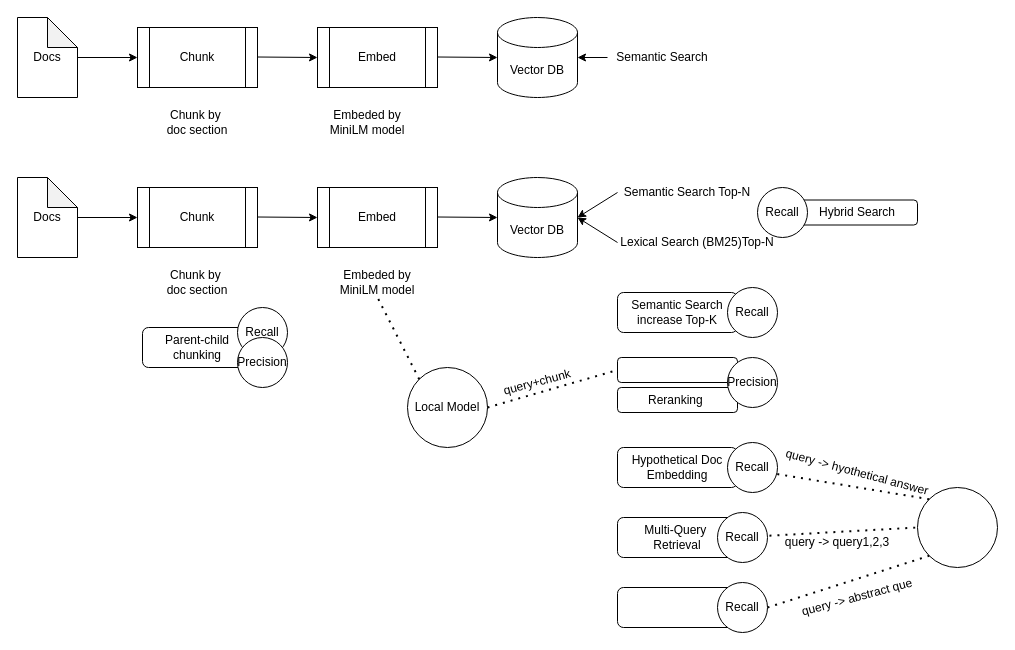
This 1015x650 diagram has some shape labels left out. Each missing label, with the box of its shape:
Cross-Encoder: (616, 356, 738, 382)
LLM: (916, 486, 998, 568)
Step-back Retrieval: (616, 586, 738, 628)
